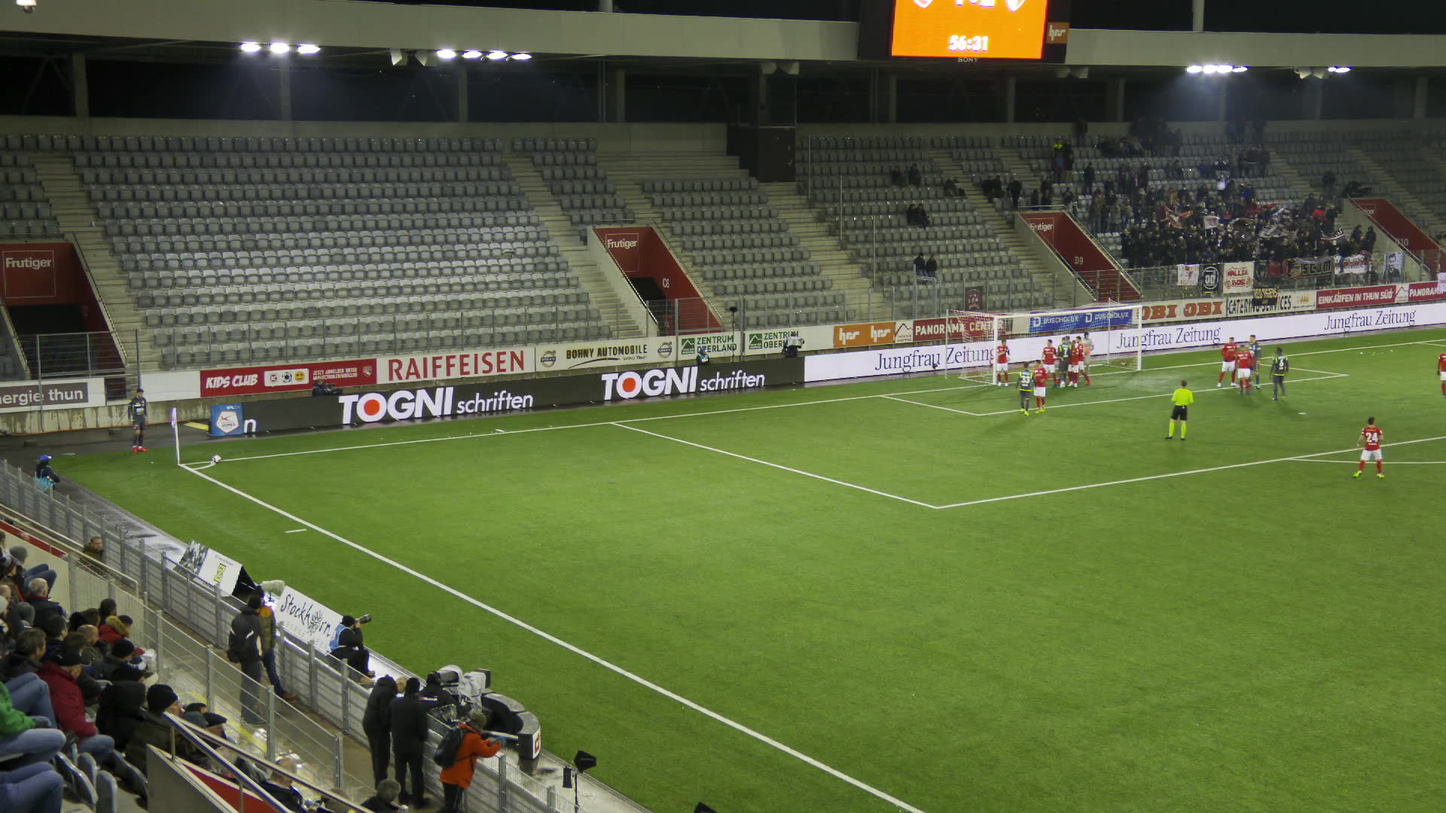ball: (212, 454, 222, 463)
player: (1350, 415, 1387, 481), (125, 387, 151, 454), (1216, 335, 1239, 388), (1014, 361, 1036, 416), (1268, 346, 1289, 403), (1232, 344, 1255, 396), (1029, 359, 1050, 414), (1243, 333, 1262, 390), (1039, 338, 1060, 388), (1073, 335, 1093, 385), (1075, 330, 1094, 381), (1055, 337, 1073, 390), (994, 338, 1010, 388), (1066, 340, 1080, 389), (1064, 334, 1076, 388), (1435, 350, 1445, 397)
referee: (1164, 377, 1194, 441)
